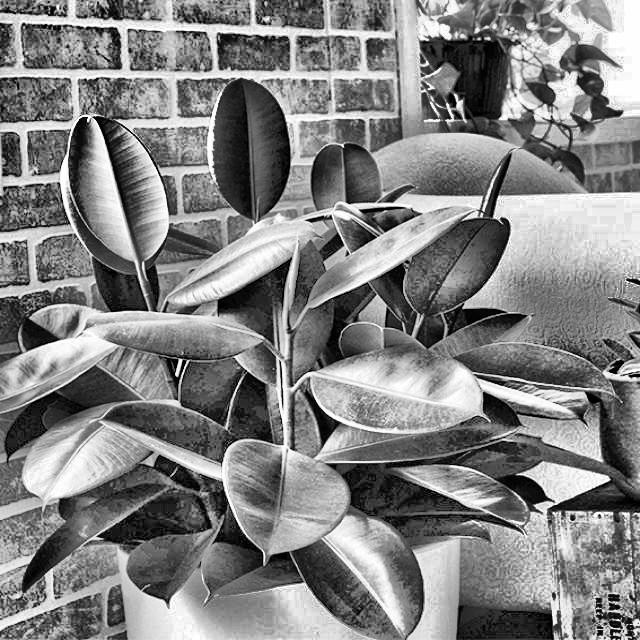plants: (33, 109, 496, 622), (414, 1, 628, 178)
